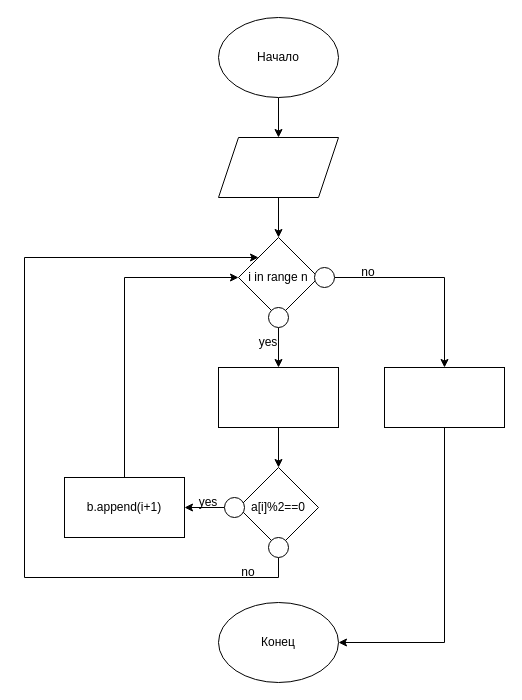
Some shapes in this 522 by 700 pixel diagram are drawn without their labels. Each missing label, with the centre of its shape:
"a[i]=randint(min,max)" goes at point (278, 397).
"n = int(input) a = [0] * n b = []" goes at point (278, 167).
"print(a) print(b)" goes at point (444, 397).
